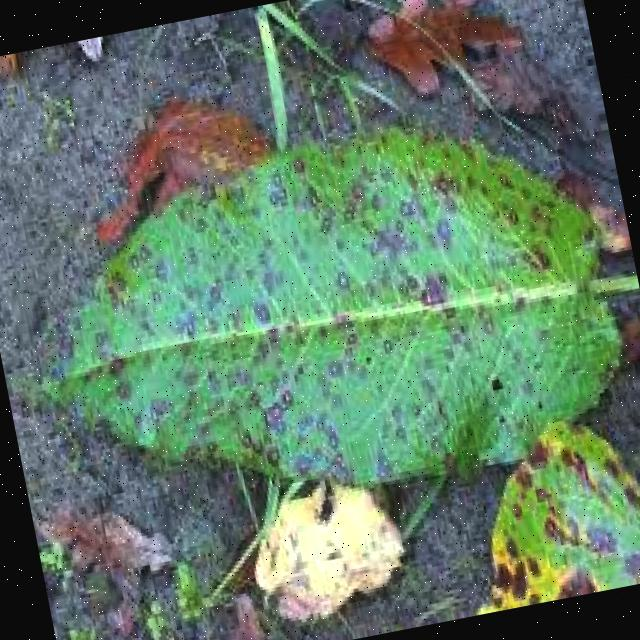leaf spot: (0, 88, 640, 526), (458, 401, 640, 612)
